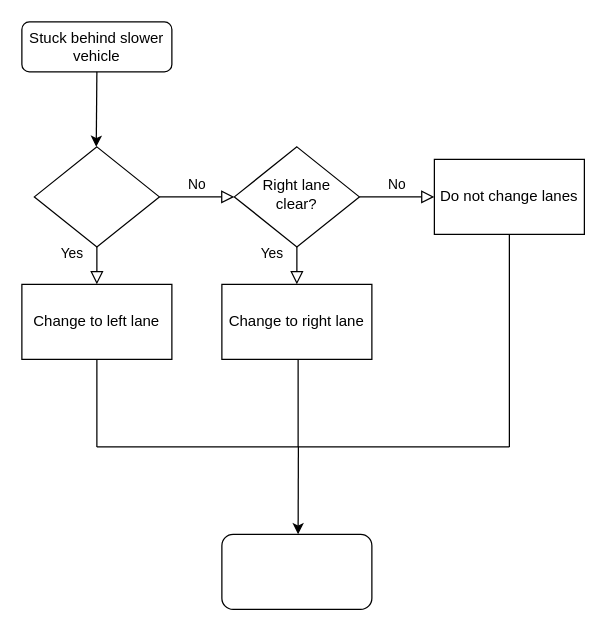
Image size: 606x631. Some labels were removed from this diagram. Here are the shapes that lost their labels. From the top down, the centre of each, then its label:
At point 96,196: "Left lane clear?".
At point 296,571: "Drive forward".
